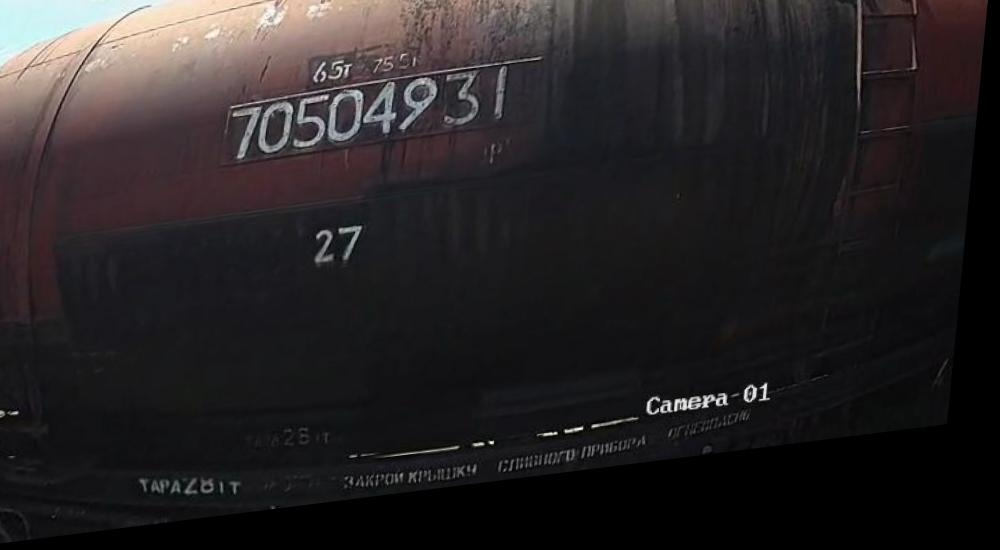Wagon-number: (229, 74, 520, 173)
